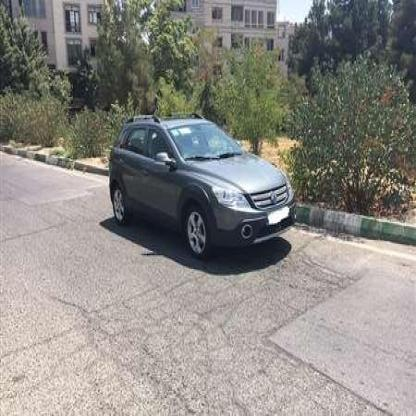Car: (103, 107, 295, 288)
